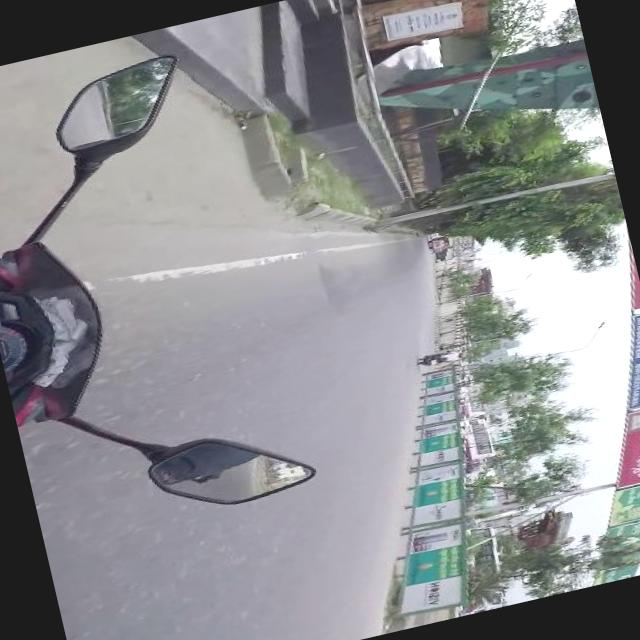bus: (462, 413, 500, 475), (460, 382, 492, 422)
car: (432, 232, 442, 238)
motorcycle: (0, 40, 323, 550), (416, 344, 470, 372), (432, 247, 444, 254)
